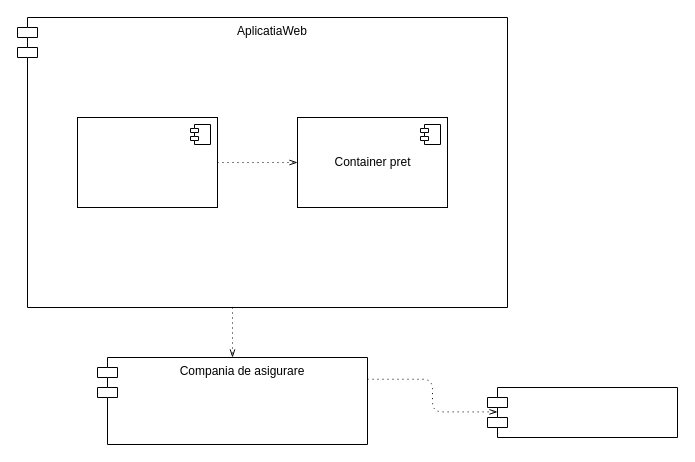
Image size: 695x462. Some labels were removed from this diagram. The shapes that lost their labels are listed below. From the top down, each one's box as (x1, y1, x2, y2) in pixels, then its label:
(76, 116, 218, 208): Form
(486, 386, 678, 438): Baza de date
